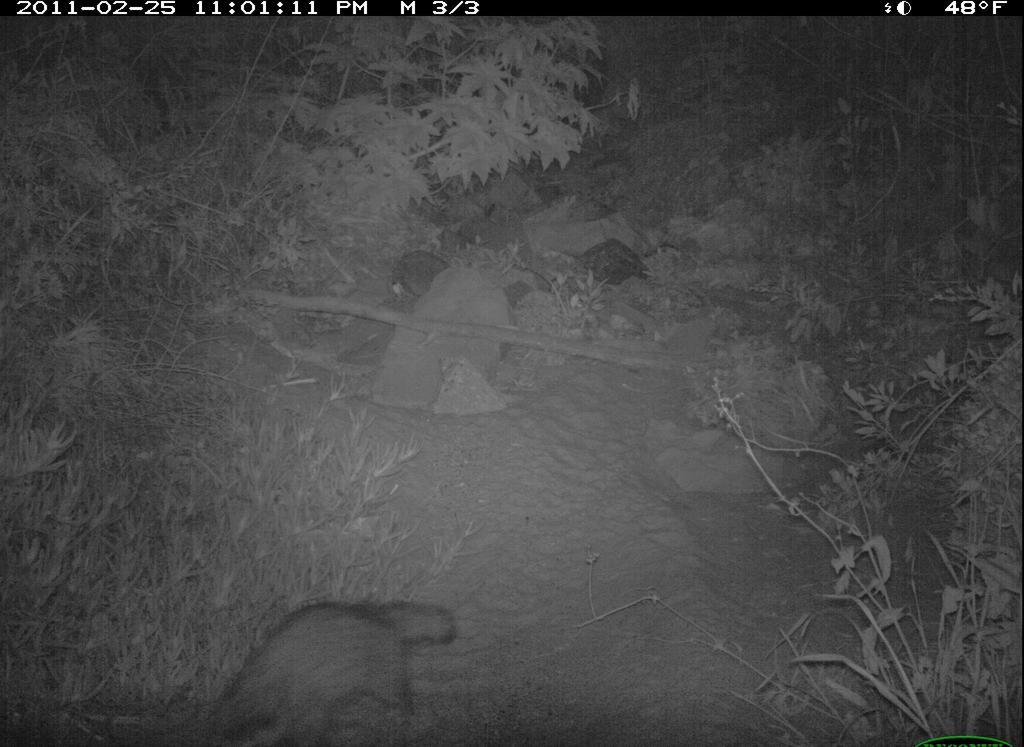raccoon: (203, 592, 459, 745)
